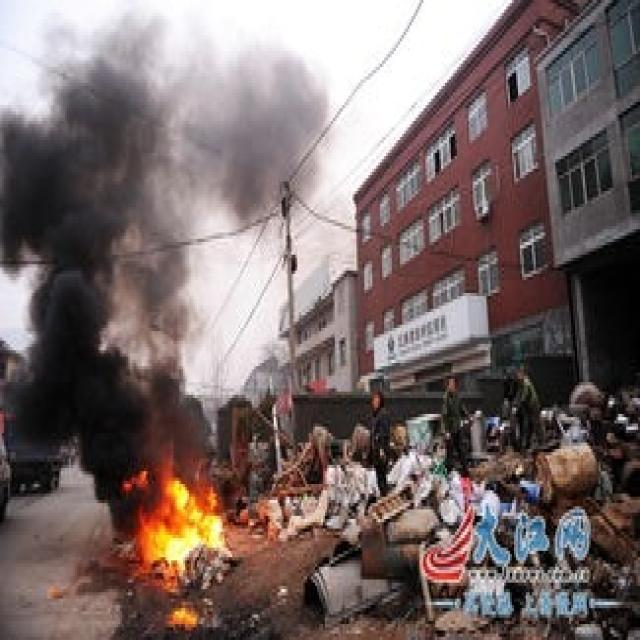Smoke: (0, 0, 347, 546)
